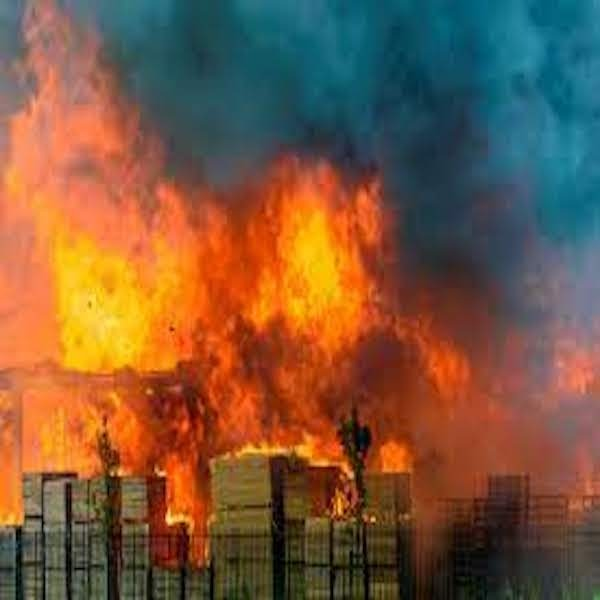fire: (250, 53, 490, 367), (33, 83, 252, 385), (59, 394, 331, 458)
